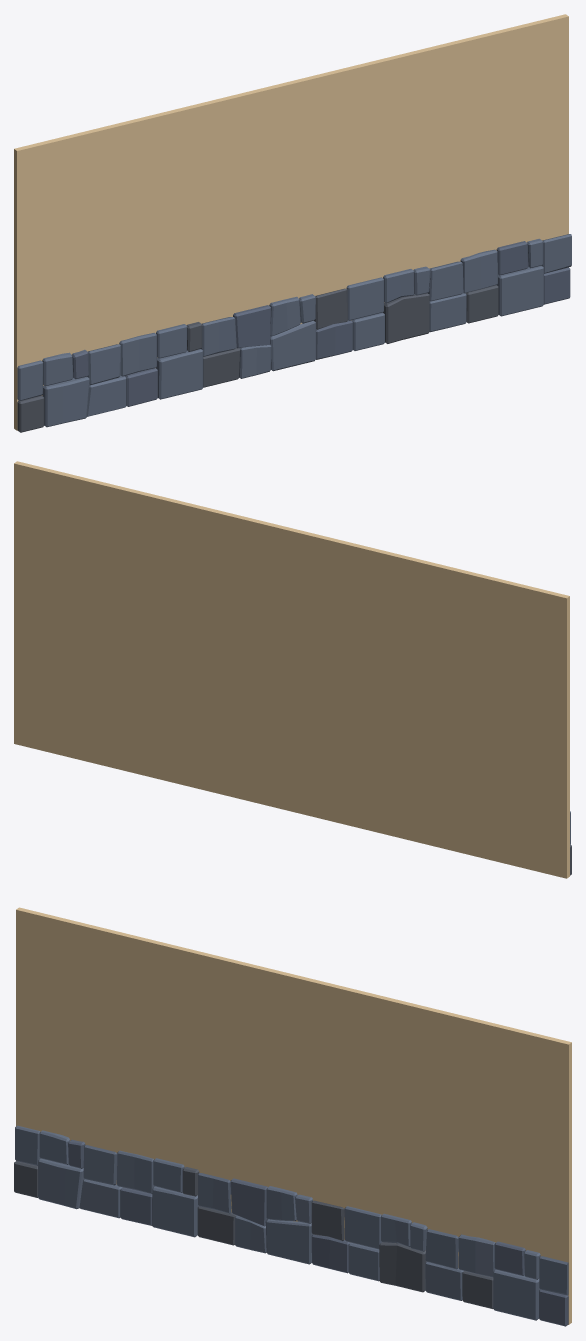
File: Wall_01.fbx
3 renders of one model, top to bottom at view 1: azimuth 30°, elevation 25°; view 2: azimuth 150°, elevation 25°; view 3: azimuth 330°, elevation 25°, orthographic.
Visible parts, largest first — view 1: Wall_01; view 2: Wall_01; view 3: Wall_01.
Part boxes in pixels (x1,y1,x2,y2): Wall_01: [14, 14, 571, 432]; Wall_01: [14, 461, 571, 878]; Wall_01: [14, 907, 571, 1326].
Bounding box in the file's own units: 575 × 279 × 13.85.
